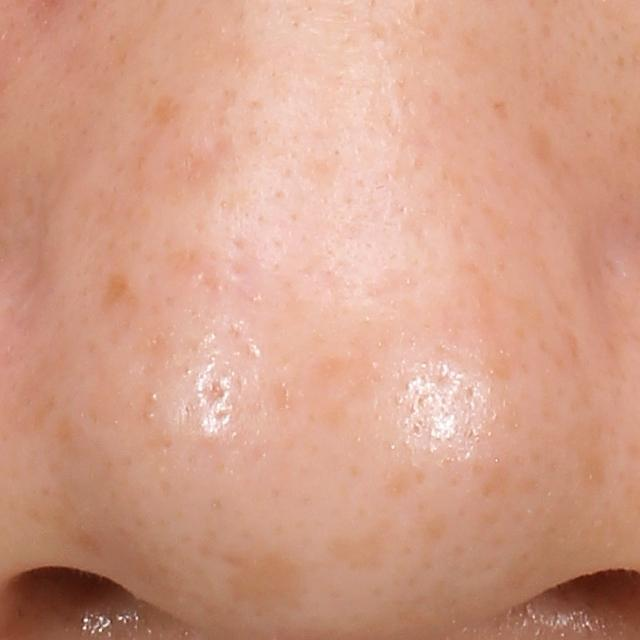melasma: (222, 550, 307, 608), (146, 79, 189, 136), (99, 275, 143, 318), (527, 129, 558, 167), (489, 99, 514, 122)
